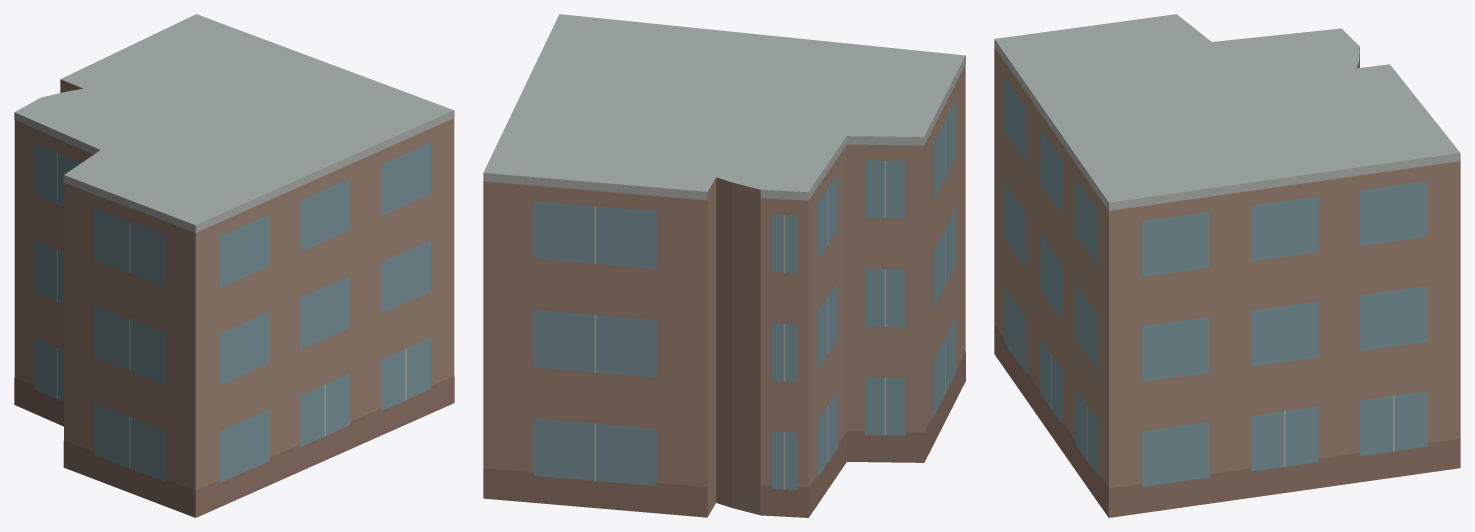
Rendered from survey-upis-32694044.glb.
The picture shows the model from 3 angles, left to right: view 1: azimuth 30°, elevation 25°; view 2: azimuth 150°, elevation 25°; view 3: azimuth 270°, elevation 25°; orthographic projection. The views are drawn at different scales.
Parts seen in each view (by area): view 1: survey-upis-32694044.tmp; view 2: survey-upis-32694044.tmp; view 3: survey-upis-32694044.tmp.
Boxes of the visible parts, x1=… form: survey-upis-32694044.tmp: x1=14, y1=14, x2=454, y2=517; survey-upis-32694044.tmp: x1=483, y1=14, x2=965, y2=517; survey-upis-32694044.tmp: x1=994, y1=14, x2=1460, y2=517.
Size of the model in its own units: 12.09 by 9.4 by 12.61.
